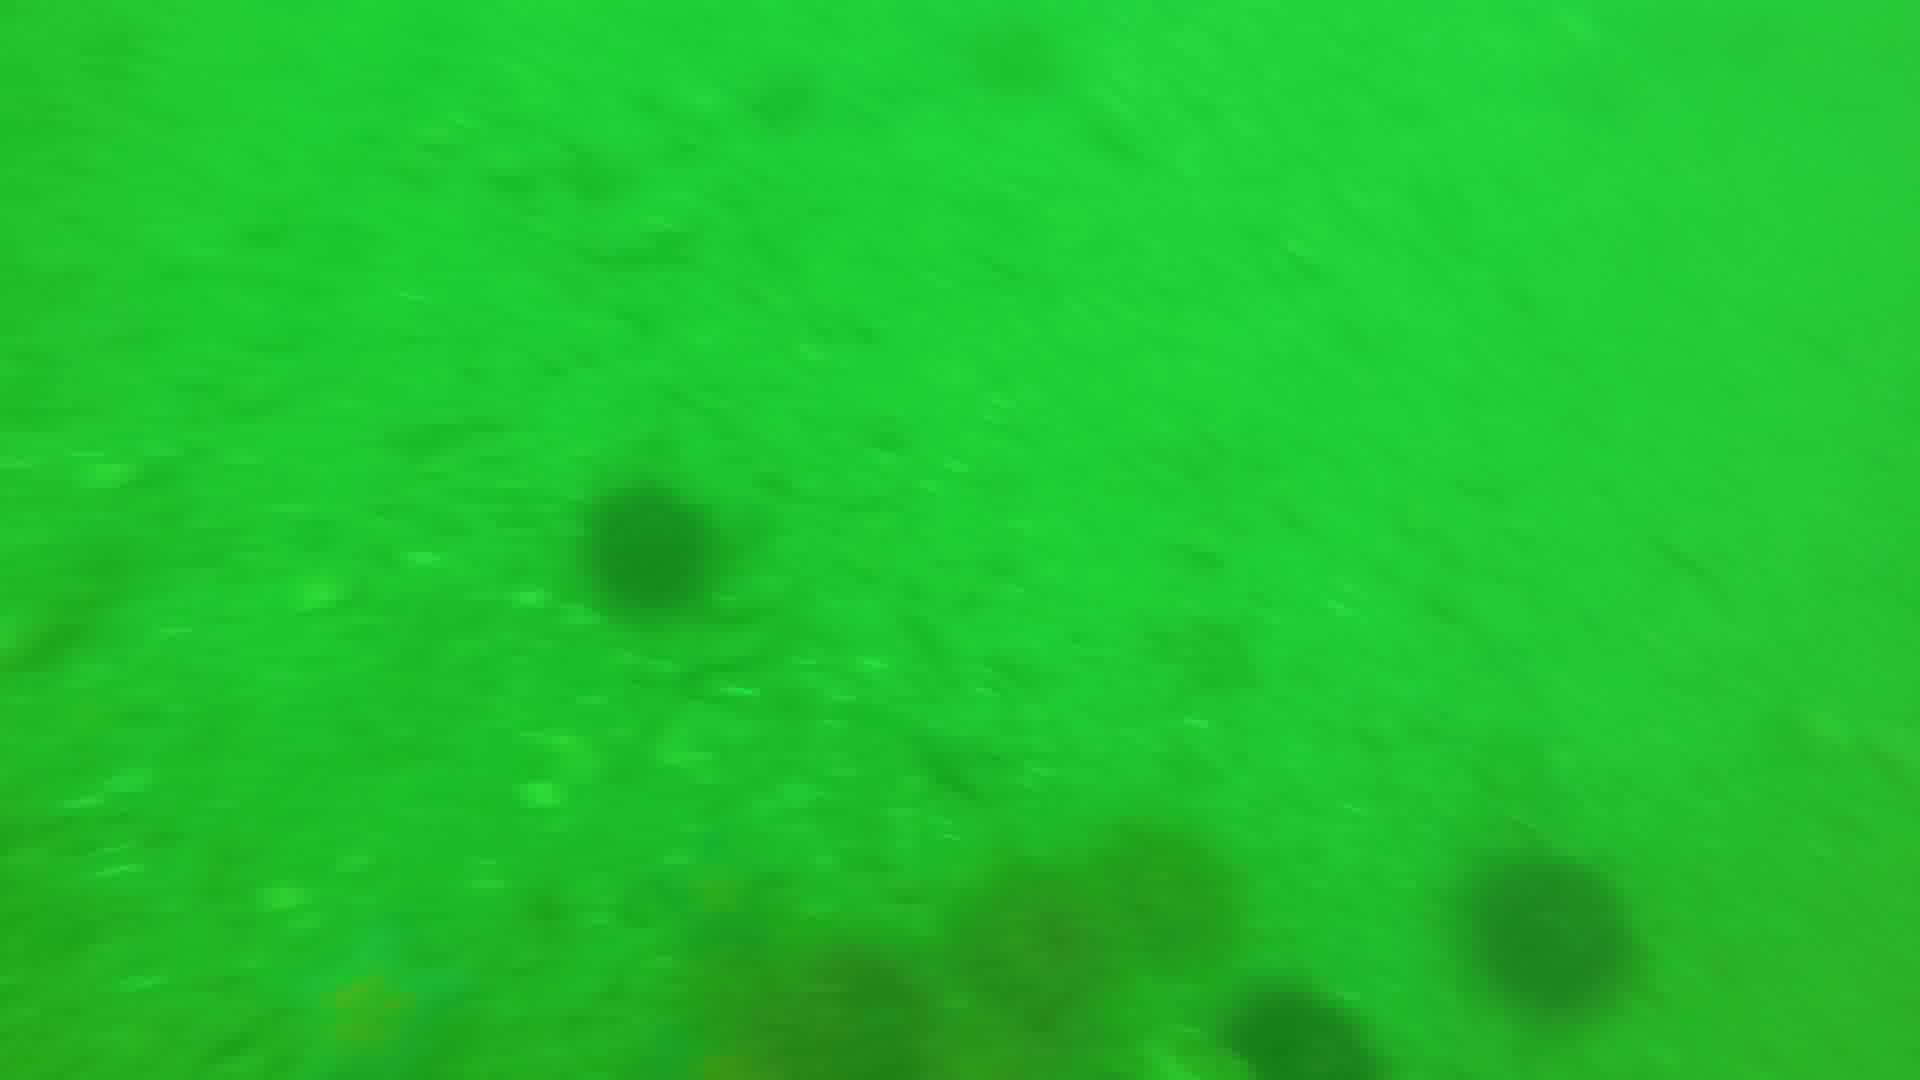echinus: (923, 857, 1114, 1022), (721, 942, 923, 1080), (1494, 855, 1639, 1026), (568, 481, 723, 613), (1118, 818, 1240, 943), (1226, 986, 1379, 1080), (959, 12, 1056, 102)
starfish: (289, 939, 472, 1080), (661, 844, 798, 957)
